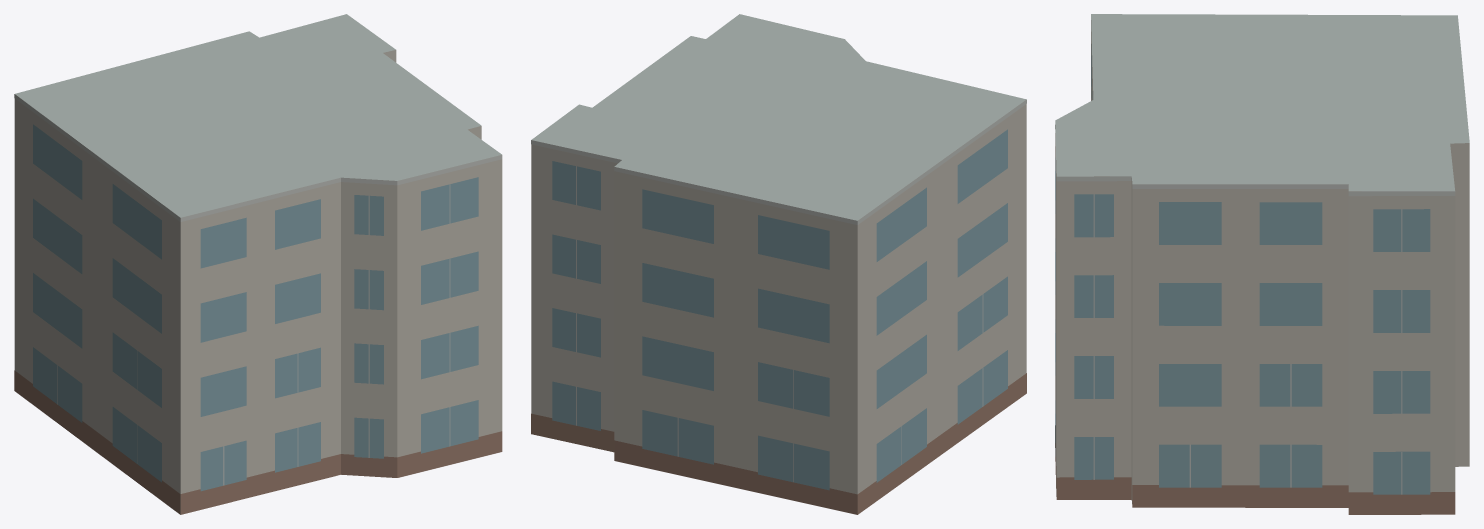
Rendered from survey-upis-32981714.glb.
3 views of the same model, side by side, from view 1: azimuth 30°, elevation 25°; view 2: azimuth 150°, elevation 25°; view 3: azimuth 270°, elevation 25° (orthographic). The views are drawn at different scales.
Visible parts, largest first — view 1: survey-upis-32981714.tmp; view 2: survey-upis-32981714.tmp; view 3: survey-upis-32981714.tmp.
Boxes of the visible parts, x1=… form: survey-upis-32981714.tmp: x1=14, y1=14, x2=502, y2=514; survey-upis-32981714.tmp: x1=531, y1=14, x2=1026, y2=514; survey-upis-32981714.tmp: x1=1055, y1=14, x2=1469, y2=514.
Size of the model in its own units: 19.48 by 16.55 by 19.24.
